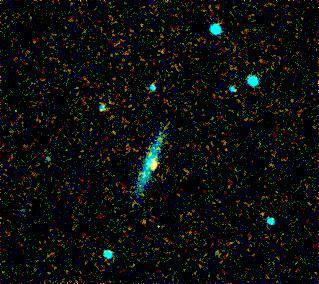star: (138, 150, 168, 180)
